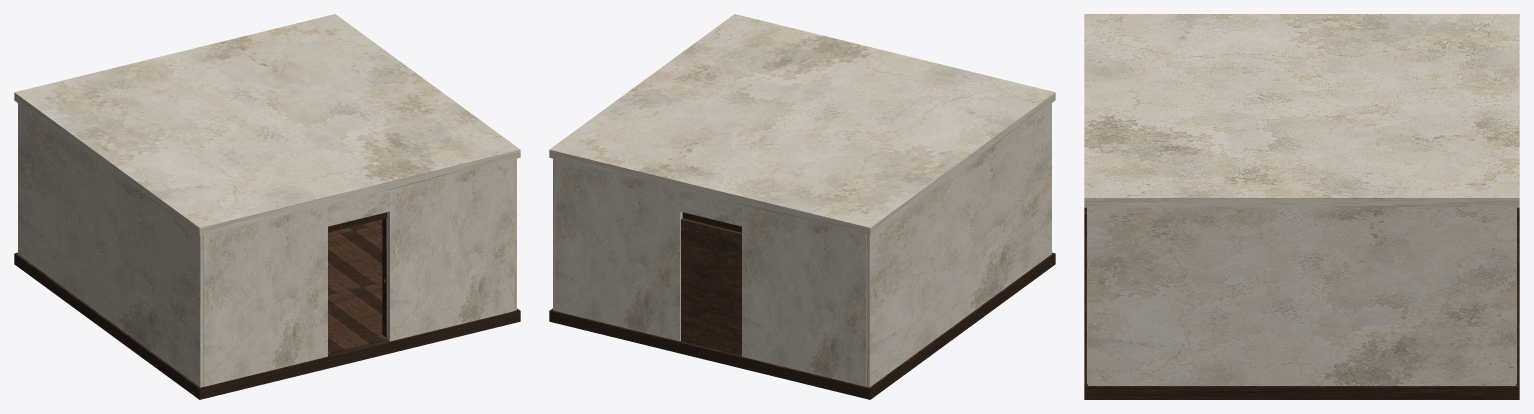
Rendered from surveillance.glb.
3 renders of one model, left to right at view 1: azimuth 30°, elevation 25°; view 2: azimuth 150°, elevation 25°; view 3: azimuth 270°, elevation 25°, orthographic. The views are drawn at different scales.
Parts seen in each view (by area): view 1: ceiling, part_72, part_111, part_108, floor, part_114, part_44, part_55, part_41, part_58, part_116, part_52 (+4 smaller); view 2: ceiling, part_72, part_101, part_98, exit_door, floor, part_104, part_85; view 3: ceiling, part_85, floor.
Part boxes in pixels (bbox=[...]): ceiling: bbox=[14, 14, 520, 235]; part_72: bbox=[18, 103, 203, 387]; part_111: bbox=[386, 159, 514, 341]; part_108: bbox=[203, 205, 327, 386]; floor: bbox=[14, 252, 520, 399]; part_114: bbox=[328, 189, 389, 226]; part_44: bbox=[328, 293, 387, 341]; part_55: bbox=[328, 237, 382, 283]; part_41: bbox=[328, 300, 382, 344]; part_58: bbox=[329, 234, 382, 276]; part_116: bbox=[382, 218, 386, 337]; part_52: bbox=[328, 250, 374, 286]; ceiling: bbox=[549, 14, 1055, 235]; part_72: bbox=[866, 103, 1051, 387]; part_101: bbox=[555, 159, 682, 341]; part_98: bbox=[742, 205, 866, 386]; exit_door: bbox=[681, 218, 741, 355]; floor: bbox=[549, 252, 1055, 399]; part_104: bbox=[680, 189, 741, 226]; part_85: bbox=[553, 158, 555, 310]; ceiling: bbox=[1084, 14, 1519, 207]; part_85: bbox=[1088, 207, 1515, 385]; floor: bbox=[1084, 207, 1519, 399].
Bounding box in the file's own units: 6.2 × 3.18 × 6.2.
8 materials, 4 textured.
